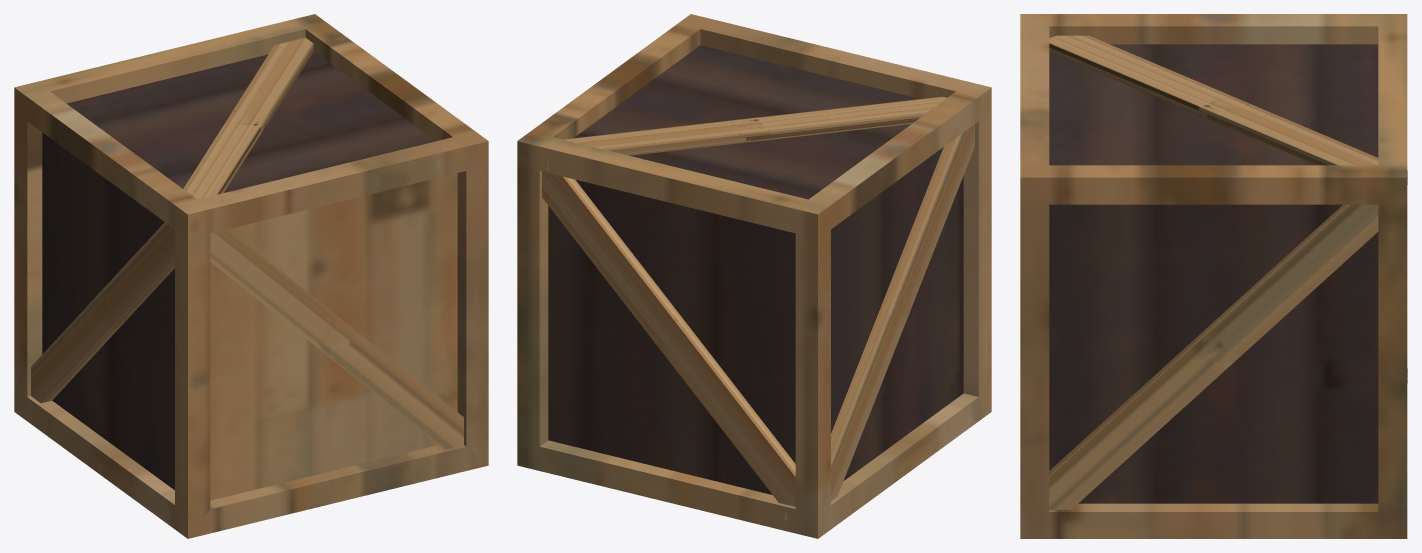
File: Alchemy Assets Browser.fbx_Box.fbx
3 renders of one model, left to right at view 1: azimuth 30°, elevation 25°; view 2: azimuth 150°, elevation 25°; view 3: azimuth 270°, elevation 25°, orthographic. The views are drawn at different scales.
Visible parts, largest first — view 1: Box; view 2: Box; view 3: Box.
Boxes of the visible parts, box(x1,y1,x2,y2) form: Box: box(14, 14, 488, 538); Box: box(517, 14, 991, 538); Box: box(1020, 14, 1407, 538).
Bounding box in the file's own units: 69.87 × 71.99 × 69.98.
